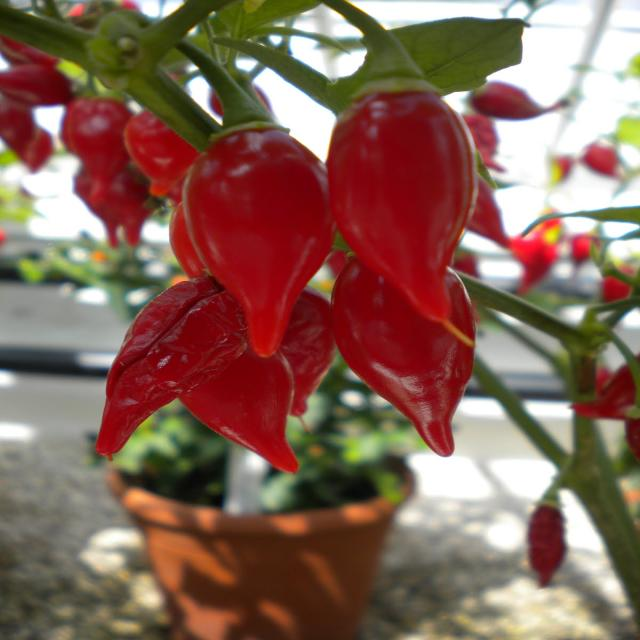Chilli Pepper: (146, 23, 375, 380), (325, 0, 549, 349), (311, 217, 494, 471), (174, 266, 372, 486), (81, 250, 266, 478), (498, 472, 615, 600), (2, 44, 112, 177), (48, 65, 158, 194), (119, 83, 212, 209), (466, 62, 601, 130)
